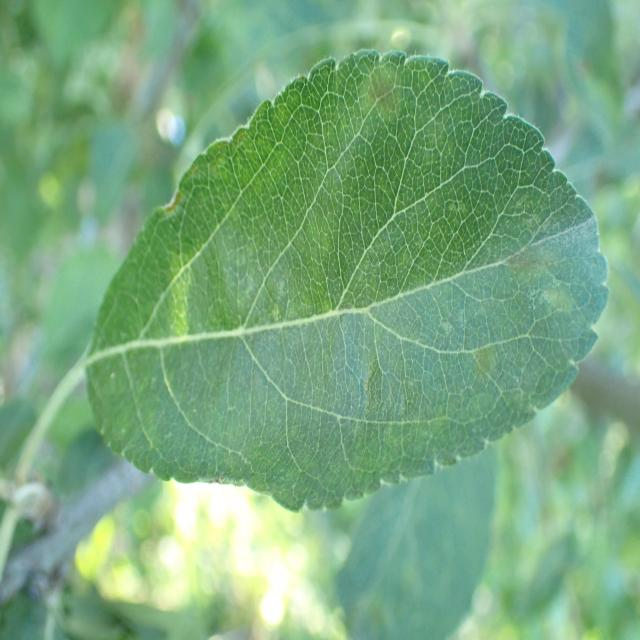scab: (118, 54, 593, 465)
